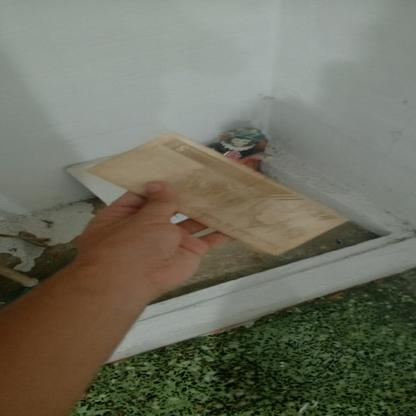five-back-vef: (87, 132, 350, 256)
